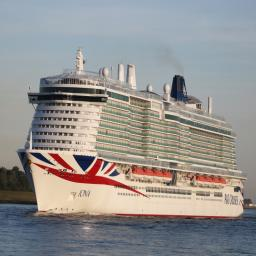cruises: (17, 47, 248, 222)
